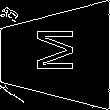M_W: (32, 32, 78, 78)
